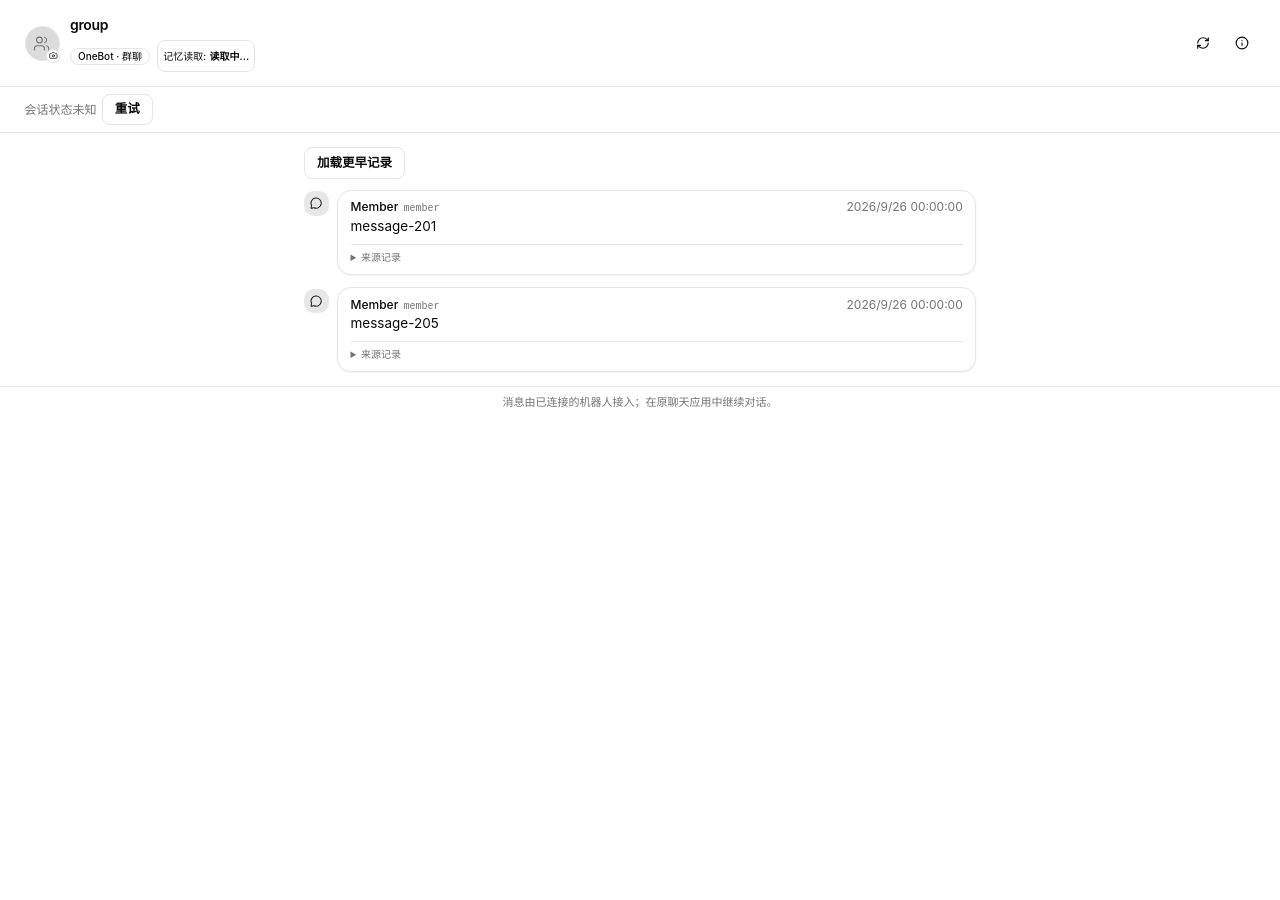
Test: opens the latest page, loads older above, and revalidates every loaded page including source expiry
This screenshot has width=1280, height=900.
Check: the text "message-205" is shown, box [350,315,439,331]
Click the button "加载更早记录" at (354, 163), box [304,147,405,179]
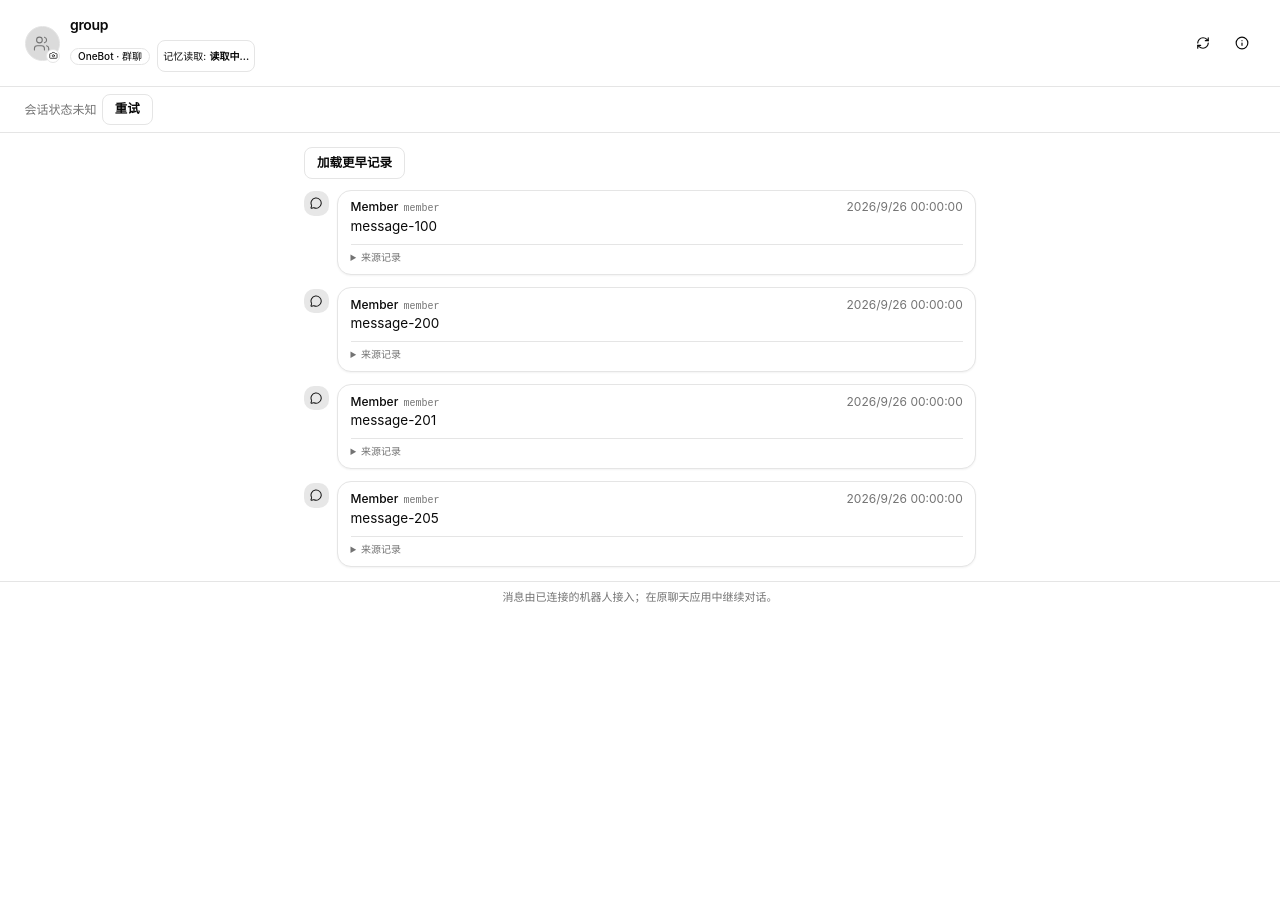
Check: the text "message-100" is shown, box [350,218,437,234]
Check: the elements "message-" read "message-100", "message-200", "message-201", "message-205", in this order, box [350,218,437,234]; [350,315,439,331]; [350,412,436,428]; [350,510,439,526]
Click the button named "刷新记录" at (1203, 43), box [1189,29,1217,57]
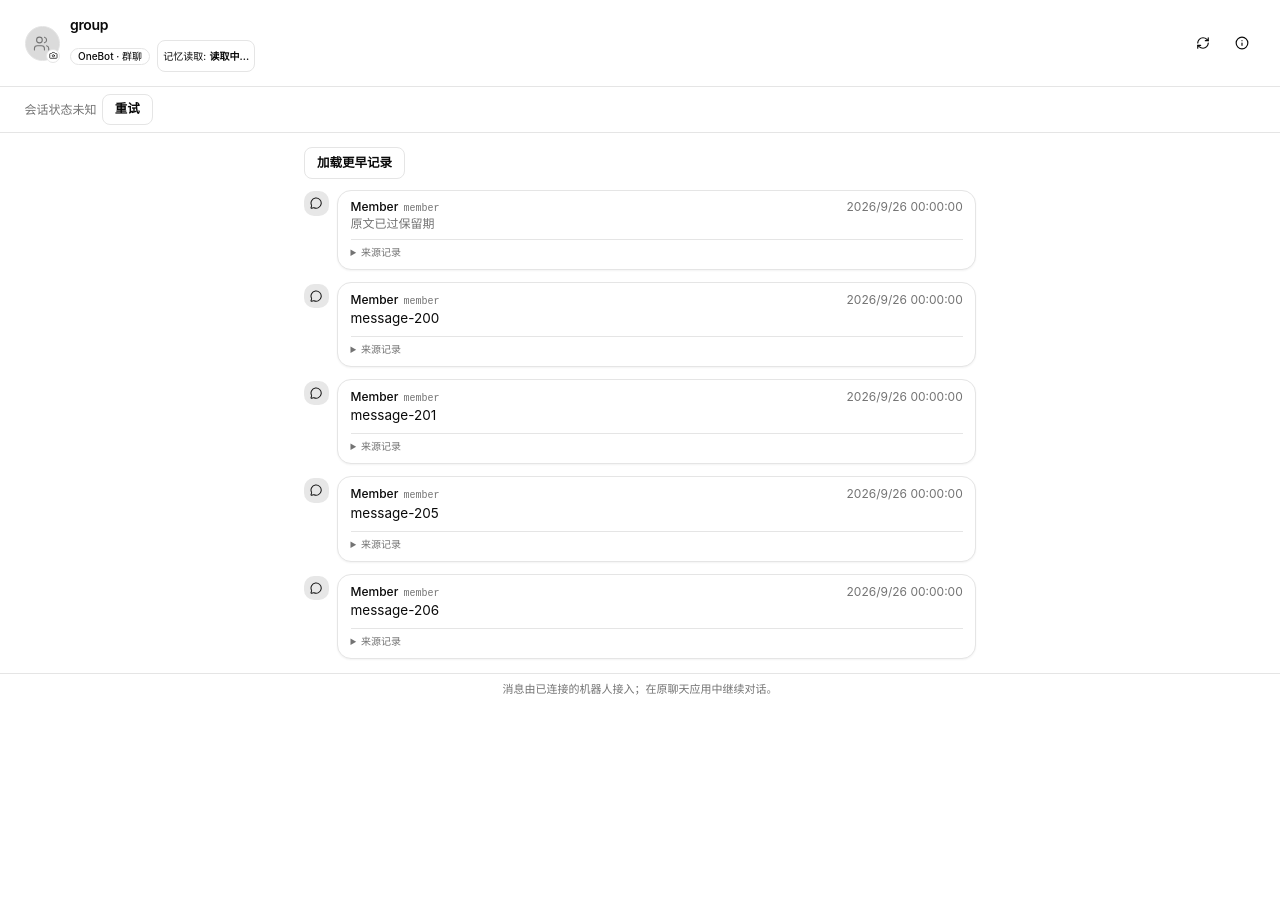
Check: the text "message-206" is shown, box [350,602,439,618]
Check: the text "message-100" is gone
Check: the text "原文已过保留期" is shown, box [350,216,434,231]
